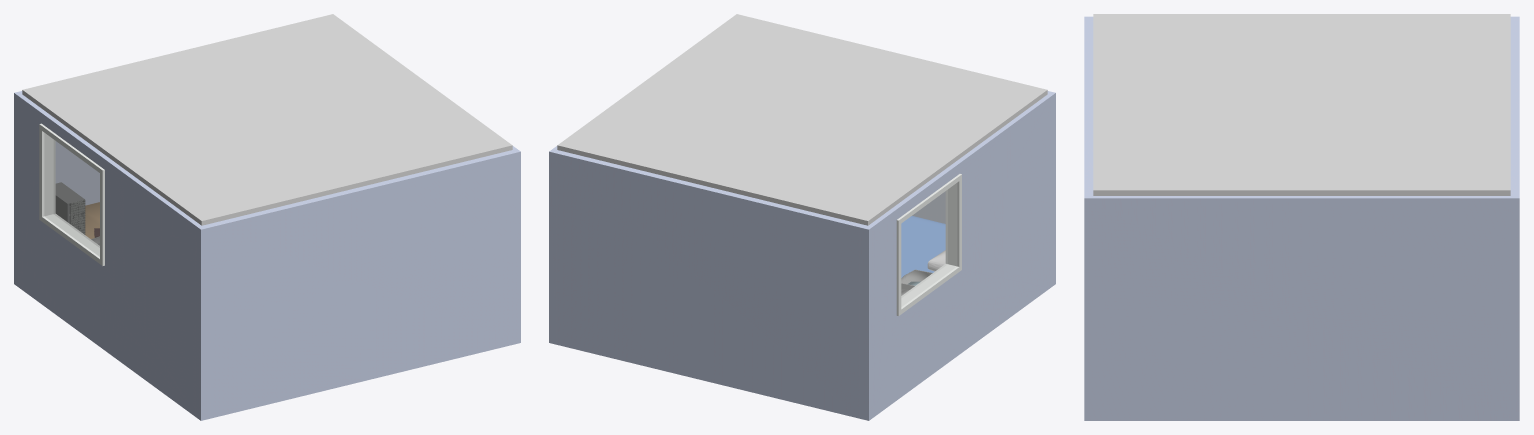
The model's file is ft_room-transformed.glb.
3 renders of one model, left to right at view 1: azimuth 30°, elevation 25°; view 2: azimuth 150°, elevation 25°; view 3: azimuth 270°, elevation 25°, orthographic. The views are drawn at different scales.
Parts seen in each view (by area): view 1: Plane.006, Cylinder, Window Glass, Plane.002, keyboard_back, table; view 2: Plane.006, Cylinder, Plane.002, Window Glass; view 3: Plane.006, Cylinder.
Part boxes in pixels (<box>): Plane.006: <box>14,91,520,420</box>; Cylinder: <box>22,14,512,225</box>; Window Glass: <box>44,133,99,256</box>; Plane.002: <box>39,123,104,265</box>; keyboard_back: <box>55,182,84,232</box>; table: <box>85,202,99,238</box>; Plane.006: <box>549,91,1055,420</box>; Cylinder: <box>557,14,1047,225</box>; Plane.002: <box>896,174,961,316</box>; Window Glass: <box>901,183,956,306</box>; Plane.006: <box>1084,16,1519,420</box>; Cylinder: <box>1093,14,1510,195</box>.
Bounding box in the file's own units: 7.05 × 4.1 × 7.09.
Materials: 13 (13 with a texture image).
